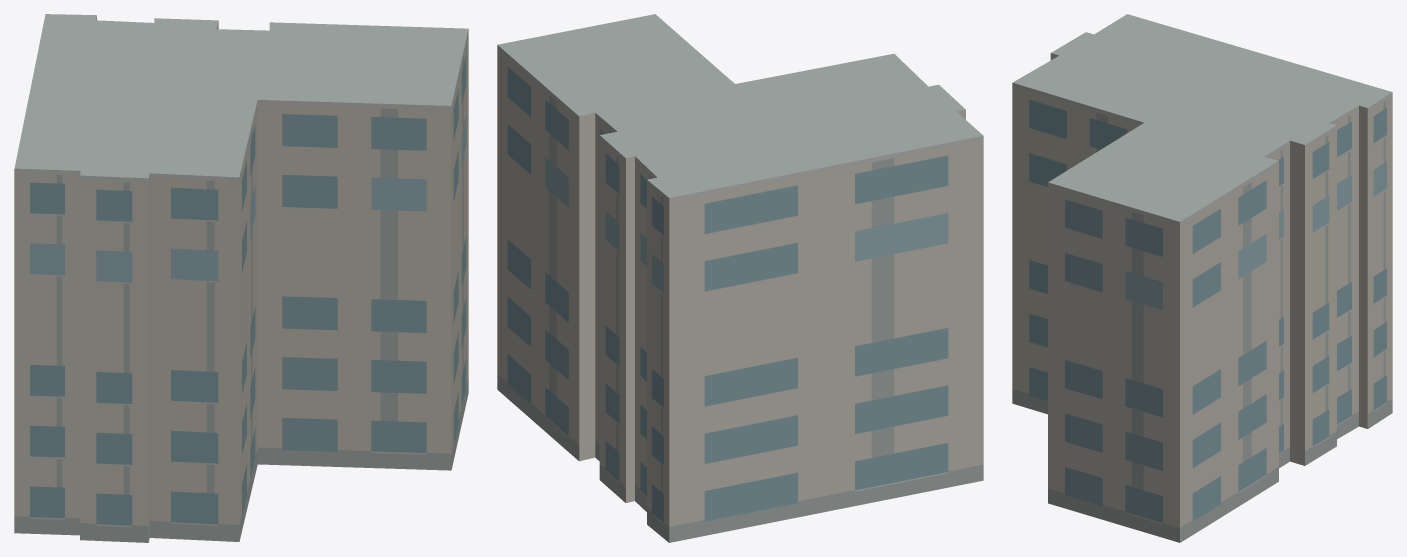
Rendered from survey-upis-32550820.glb.
3 renders of one model, left to right at view 1: azimuth 30°, elevation 25°; view 2: azimuth 150°, elevation 25°; view 3: azimuth 270°, elevation 25°, orthographic. The views are drawn at different scales.
Visible parts, largest first — view 1: survey-upis-32550820.tmp; view 2: survey-upis-32550820.tmp; view 3: survey-upis-32550820.tmp.
Part boxes in pixels (box(x1,y1,x2,y2)): survey-upis-32550820.tmp: box(14, 14, 468, 542); survey-upis-32550820.tmp: box(497, 14, 983, 542); survey-upis-32550820.tmp: box(1012, 14, 1392, 542).
Size of the model in its own units: 25.16 by 18.1 by 19.44.
